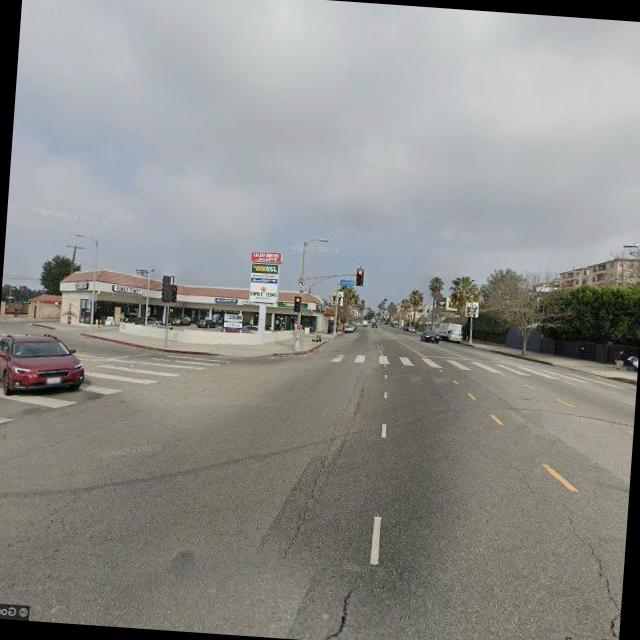pothole: (284, 408, 352, 564), (553, 505, 627, 640), (317, 581, 358, 640), (500, 450, 540, 496)
